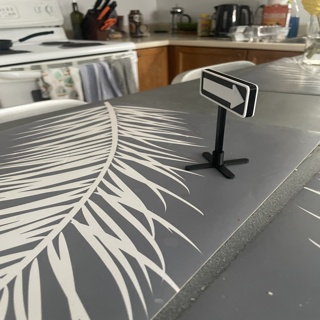sign_oneway_right: (200, 71, 254, 119)
